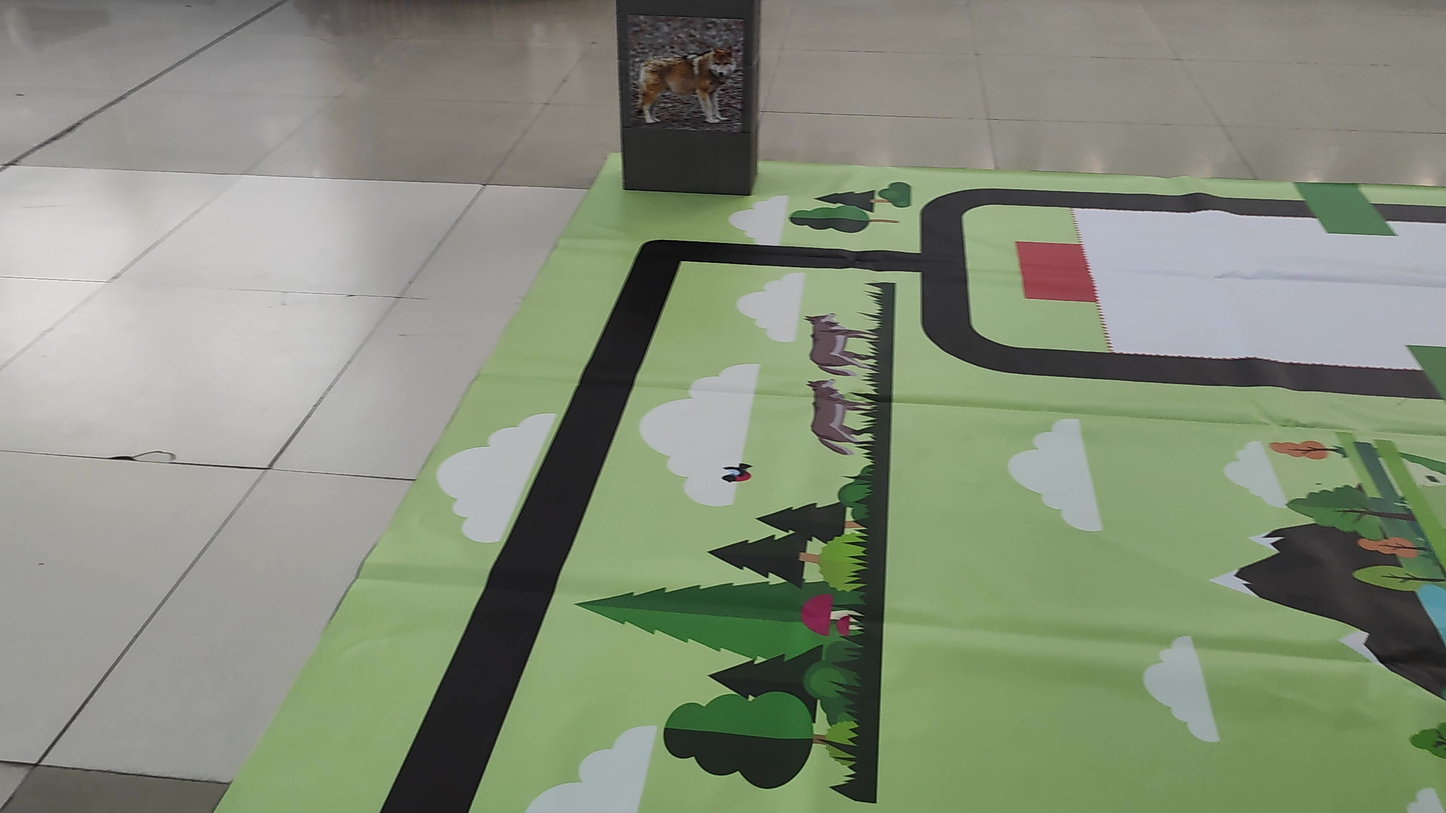wolf: (618, 14, 746, 129)
